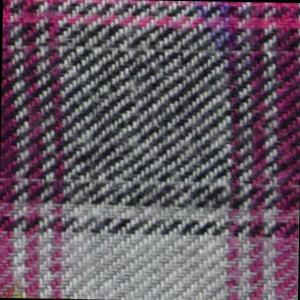Stain: (188, 2, 249, 79)
